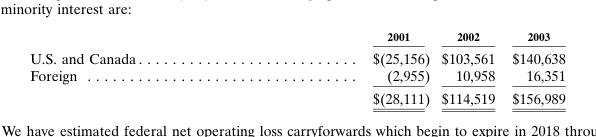table: (29, 29, 564, 106)
table column: (29, 29, 256, 106), (256, 29, 435, 106), (435, 29, 502, 106), (502, 29, 564, 106)
table column header: (29, 29, 564, 45)
table row: (29, 45, 564, 66), (29, 66, 564, 86), (29, 86, 564, 106), (29, 29, 564, 45)
